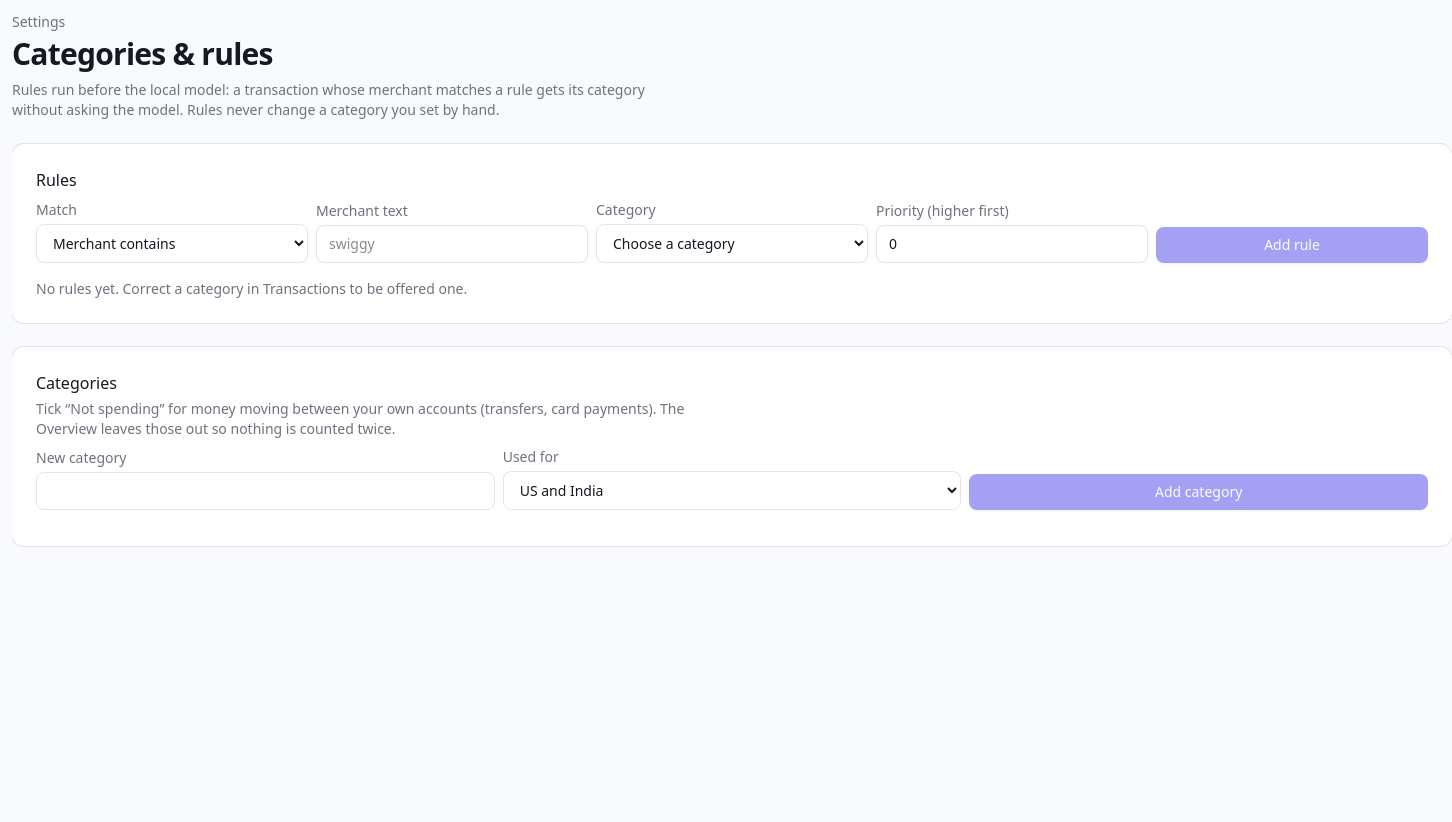
Test case: a category is added for one region
Type "Pets" into the field labelled "New category" at x=265, y=491, box 36,472 -> 495,510
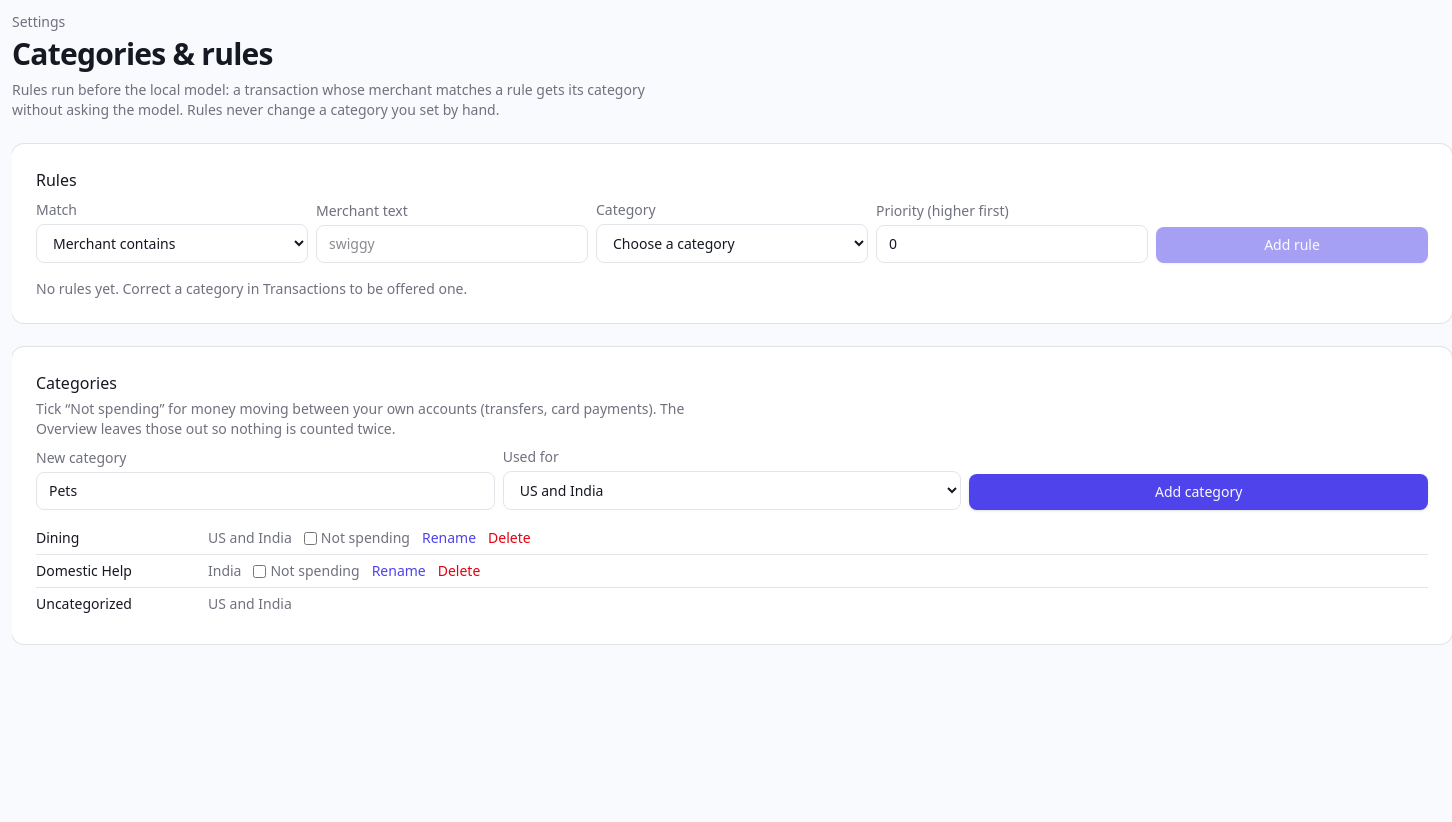
Select "US banks" in the dropdown labelled "Used for" at x=732, y=490, box 503,471 -> 961,510
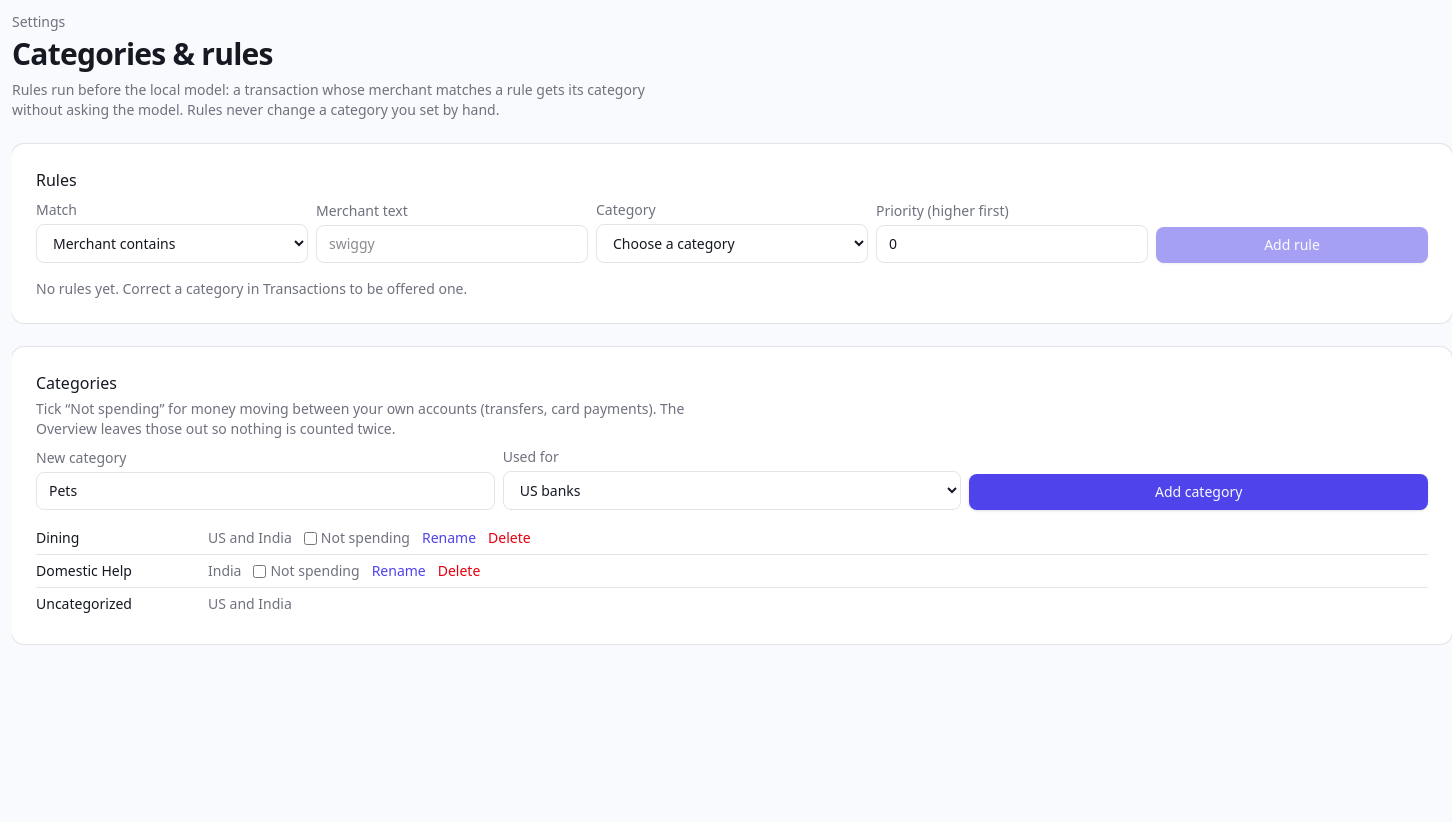
Click the button "Add category" at x=1199, y=492, box 969,474 -> 1428,510
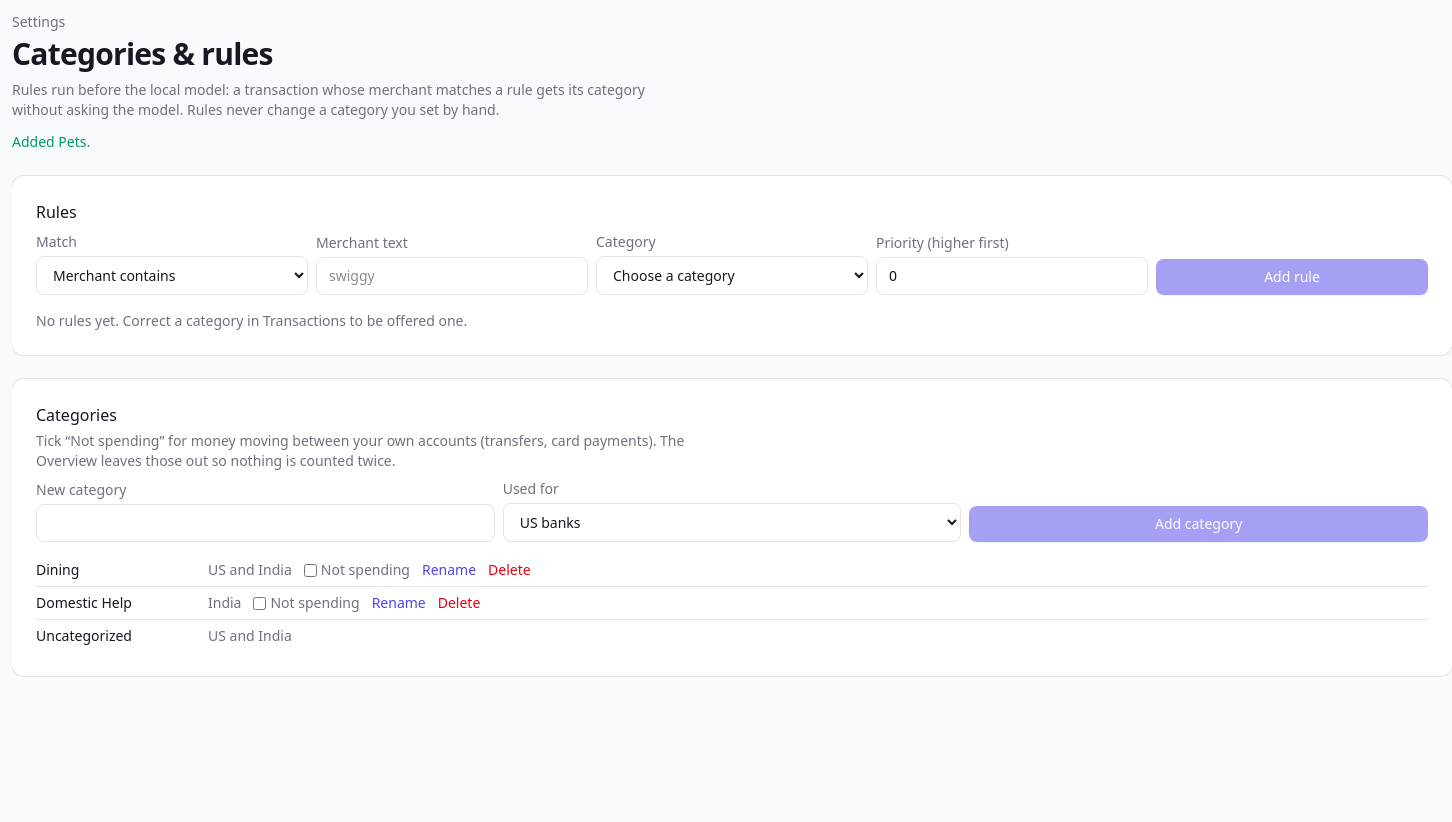
Now the text "Added Pets." is shown, box 12,132 -> 90,151
